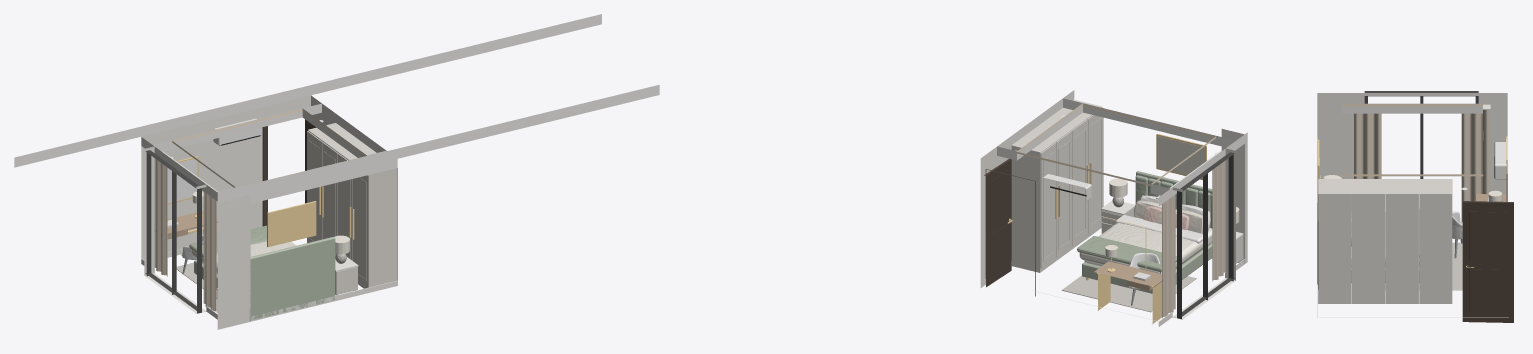
Rendered from ROOM3.glb.
The picture shows the model from 3 angles, left to right: view 1: azimuth 30°, elevation 25°; view 2: azimuth 150°, elevation 25°; view 3: azimuth 270°, elevation 25°; orthographic projection. The views are drawn at different scales.
Parts seen in each view (by area): view 1: WEB_ROOM3; view 2: WEB_ROOM3; view 3: WEB_ROOM3.
Boxes of the visible parts, x1=… form: WEB_ROOM3: x1=14, y1=14, x2=659, y2=329; WEB_ROOM3: x1=980, y1=90, x2=1247, y2=326; WEB_ROOM3: x1=1317, y1=91, x2=1513, y2=322.
Size of the model in its own units: 12.09 by 2.9 by 3.27.
